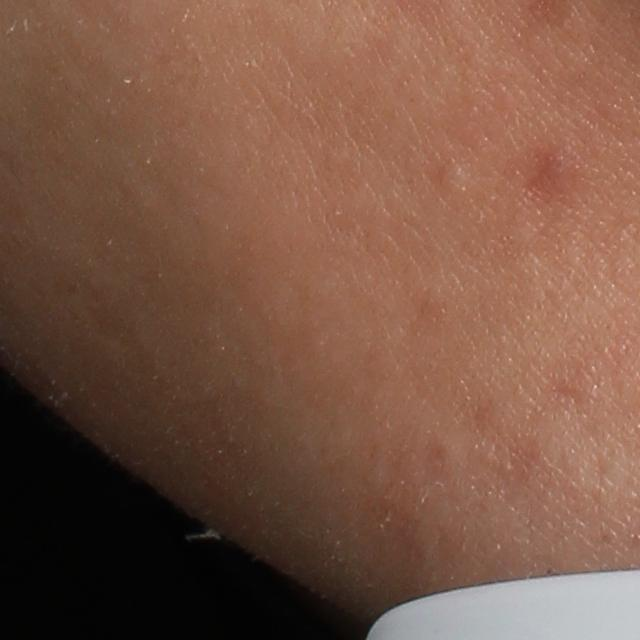comedo: (437, 160, 472, 200)
